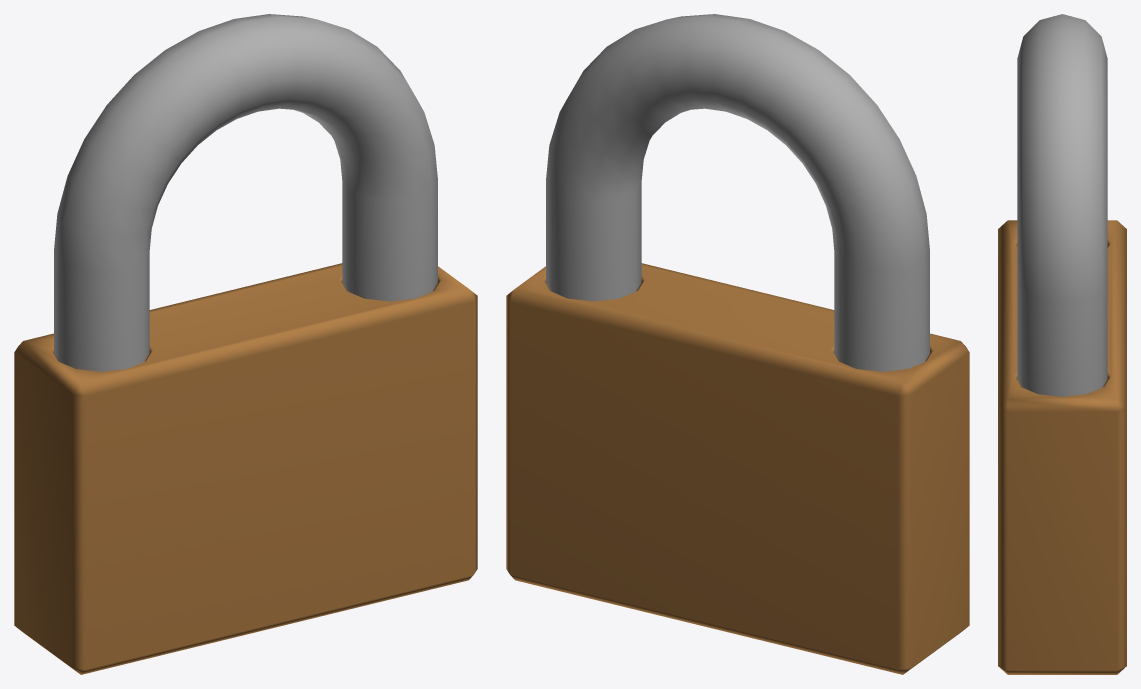
File: lock.fbx
3 views of the same model, side by side, from view 1: azimuth 30°, elevation 25°; view 2: azimuth 150°, elevation 25°; view 3: azimuth 270°, elevation 25° (orthographic). The views are drawn at different scales.
Parts seen in each view (by area): view 1: lockbottom, locktop; view 2: lockbottom, locktop; view 3: lockbottom, locktop.
Part boxes in pixels (x1,y1,x2,y2): lockbottom: [14, 263, 477, 674]; locktop: [54, 14, 437, 371]; lockbottom: [506, 263, 969, 674]; locktop: [546, 14, 929, 371]; lockbottom: [998, 220, 1126, 674]; locktop: [1017, 14, 1107, 396].
Bounding box in the file's own units: 10.17 × 2.96 × 14.01.
